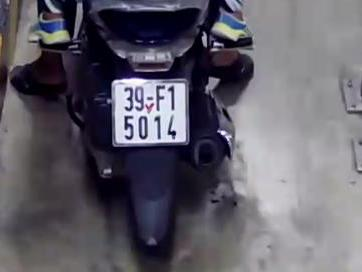num_plate: (110, 78, 190, 146)
